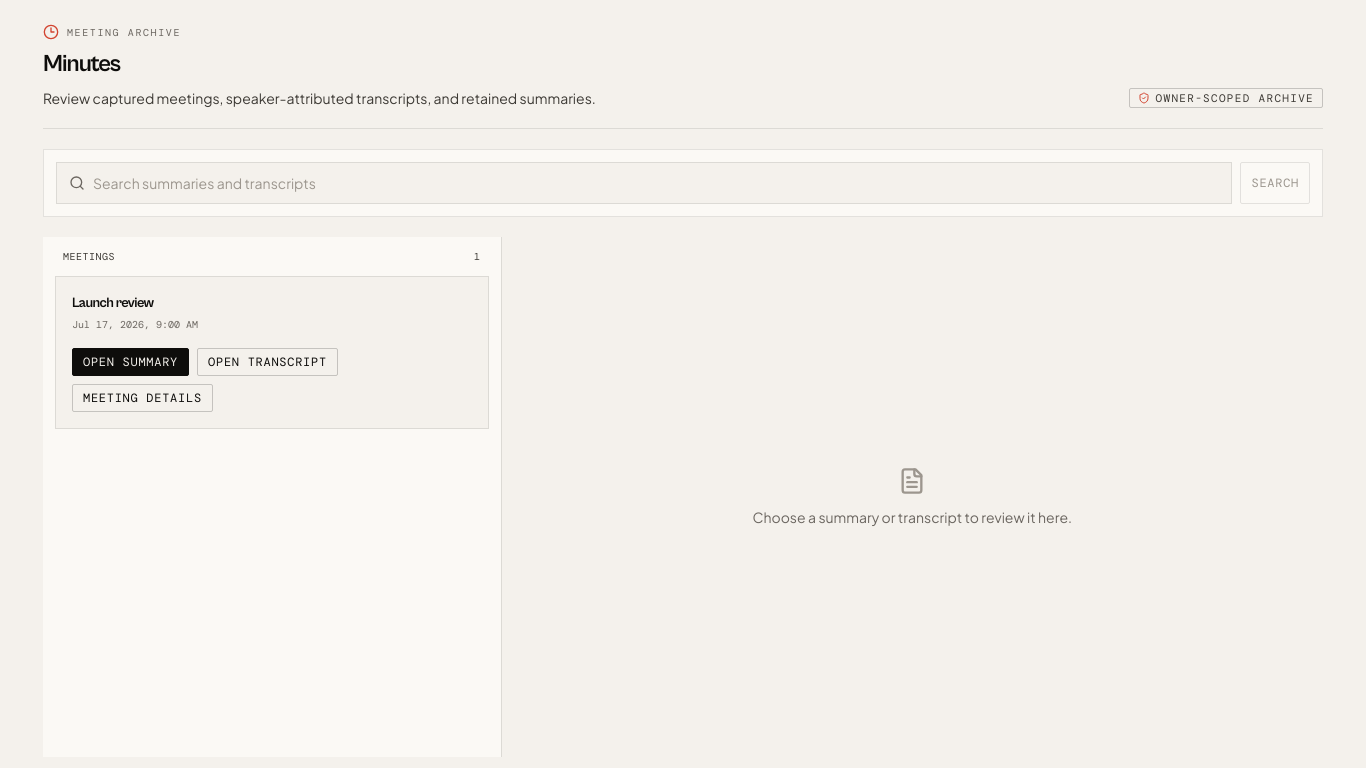
MinutesPage read surface › searches through the BFF and opens a metadata-only result
expect the heading "Launch review" is shown: met, box [72,295,154,311]
In the search field named "Search Minutes": coordinates (656, 183) [93,163,1220,203], type "launch decision"
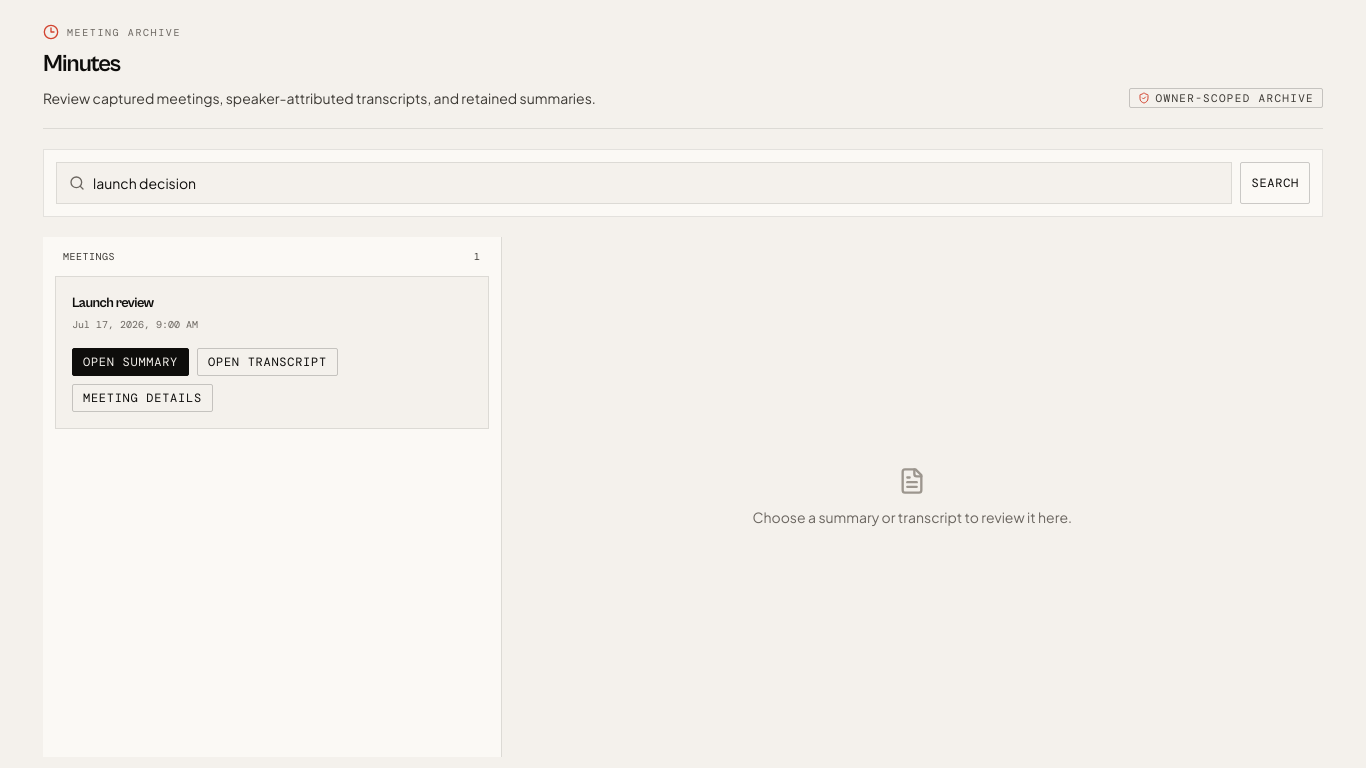
Click the button "Search": coordinates (1275, 183) [1240,162,1310,204]
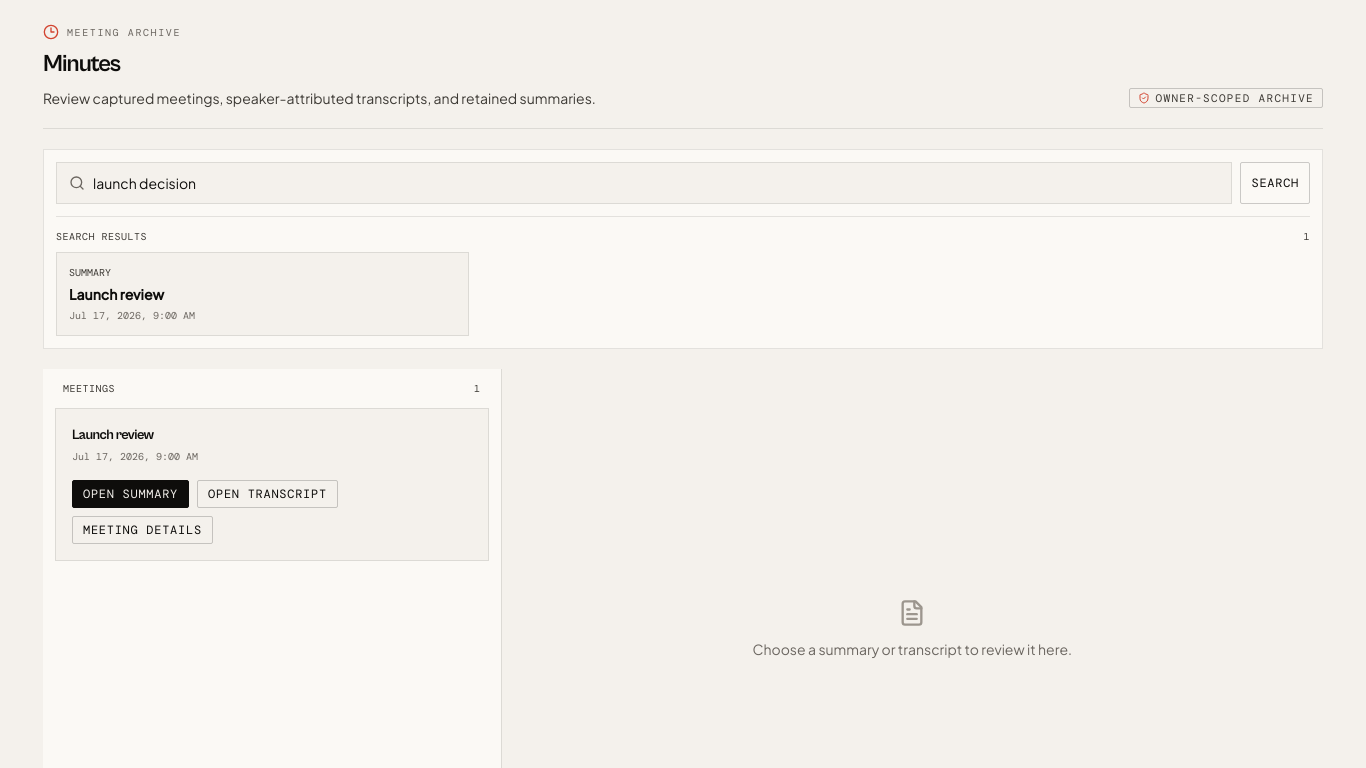
expect the button with aria-label "Open result: Launch review" is shown: met
Click the button with aria-label "Open result: Launch review": coordinates (90, 272) [56,252,469,336]
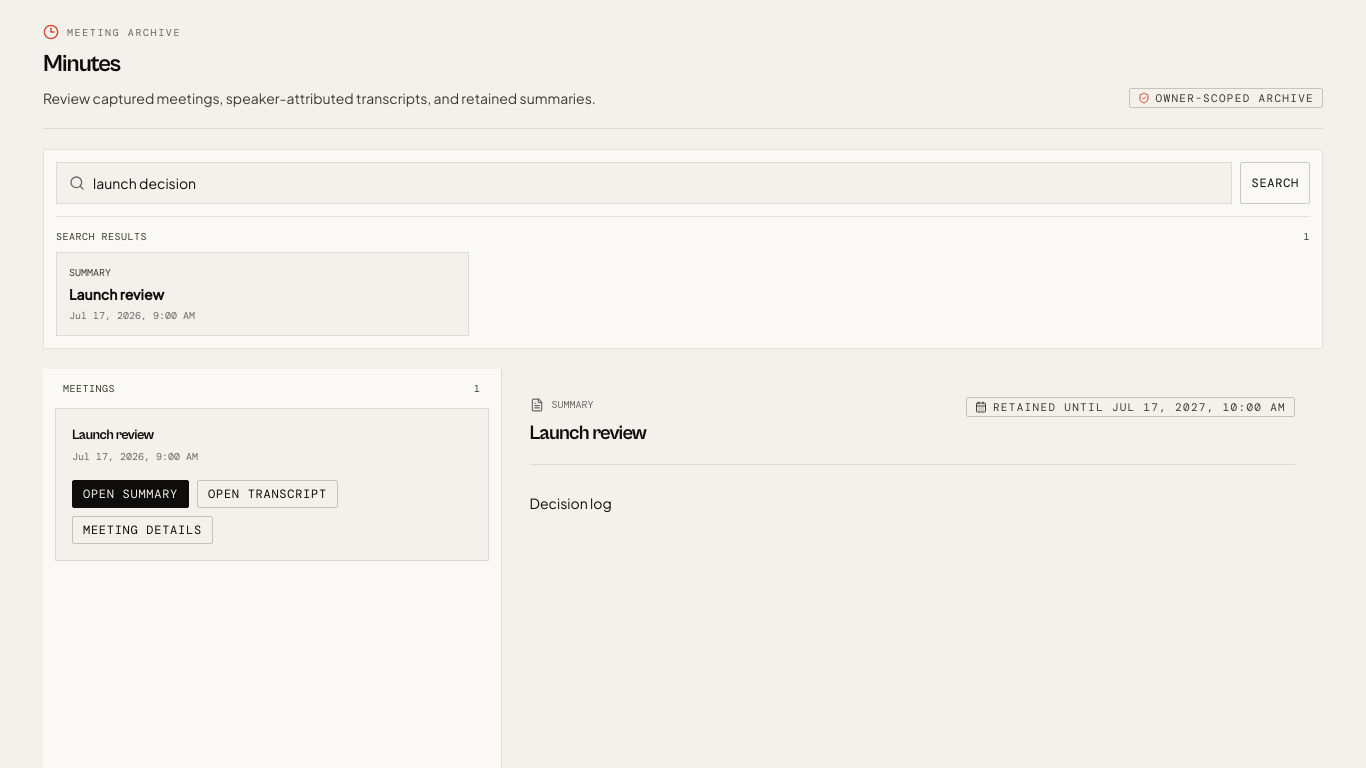
expect the text "Decision log" is shown: met, box [530,494,612,512]
